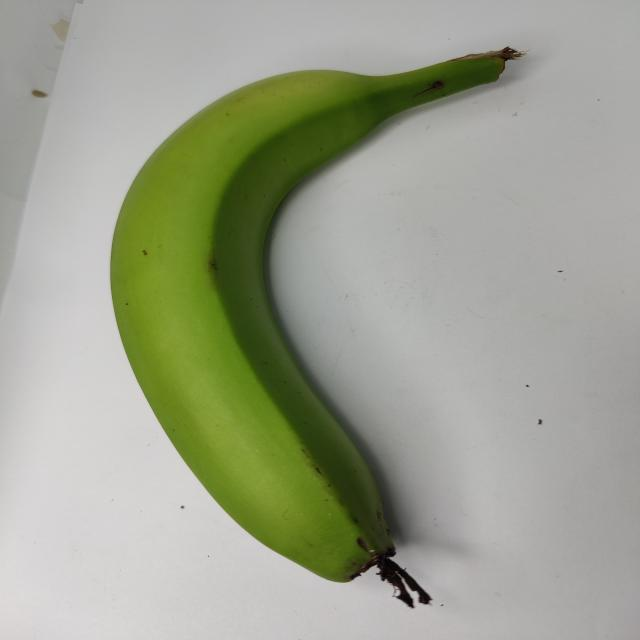raw: (58, 19, 574, 608)
